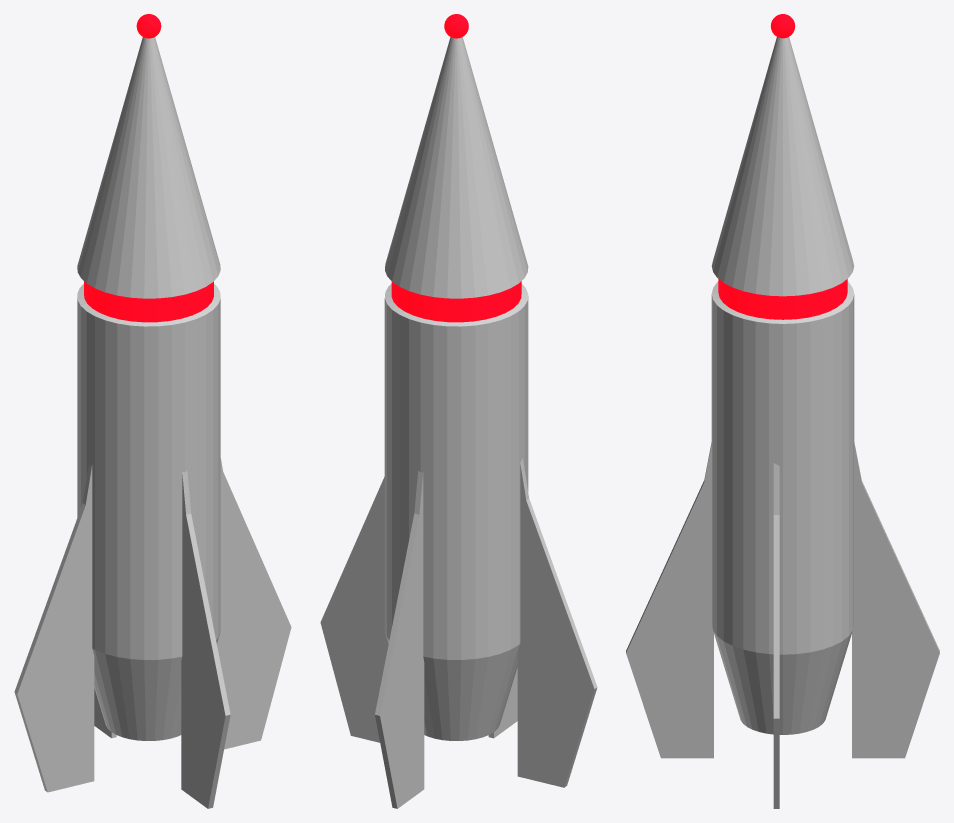
The model's file is rocket.glb.
3 renders of one model, left to right at view 1: azimuth 30°, elevation 25°; view 2: azimuth 150°, elevation 25°; view 3: azimuth 270°, elevation 25°, orthographic.
Parts seen in each view (by area): view 1: Cylinder; view 2: Cylinder; view 3: Cylinder.
Part boxes in pixels (x1,y1,x2,y2): Cylinder: (14, 14, 291, 808); Cylinder: (320, 14, 597, 808); Cylinder: (626, 14, 939, 808).
Bounding box in the file's own units: 0.1714 × 0.4469 × 0.1714.
